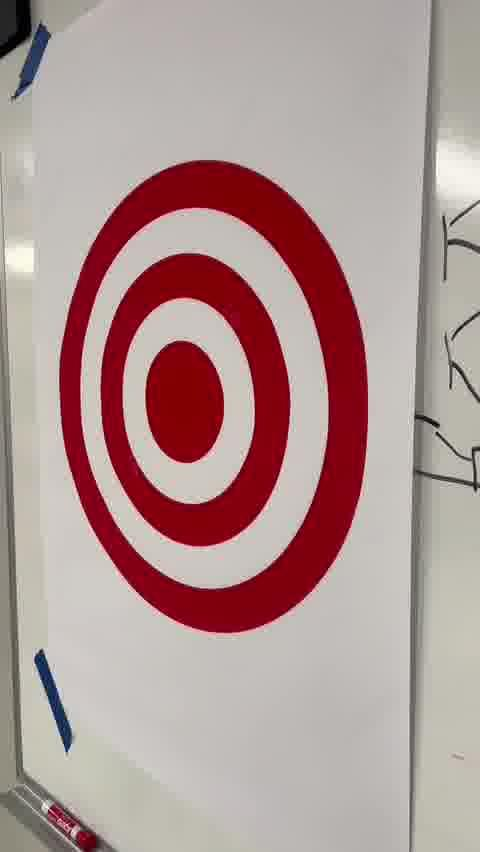target_red: (59, 159, 368, 634)
